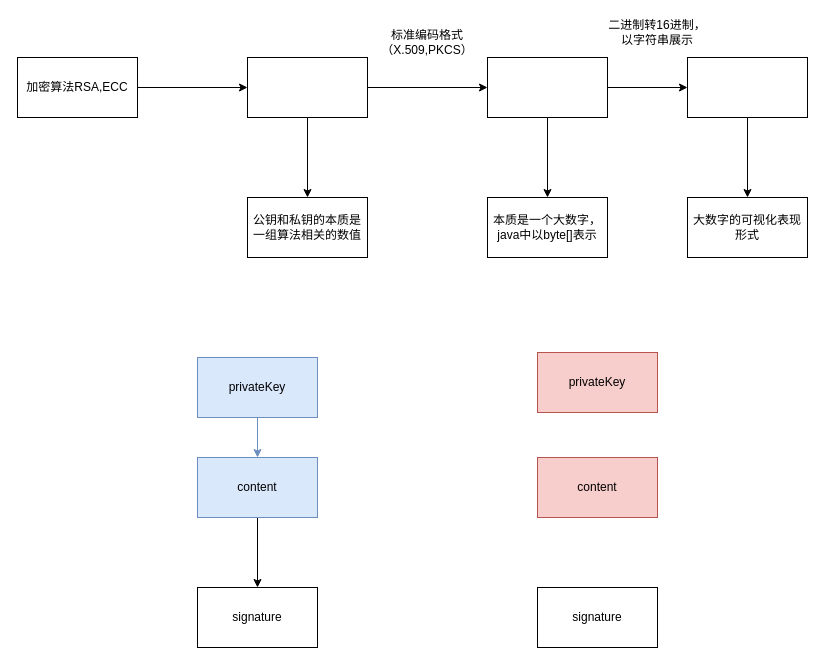
The diagram is 825 pixels wide and 665 high, and some of its shapes have lost their labels. Here are the shapes that lost their labels. From the top down, the centre of each, then its label:
the point at 307,87: 公钥，私钥
the point at 547,87: 字节数组
the point at 747,87: 16进制字符串
